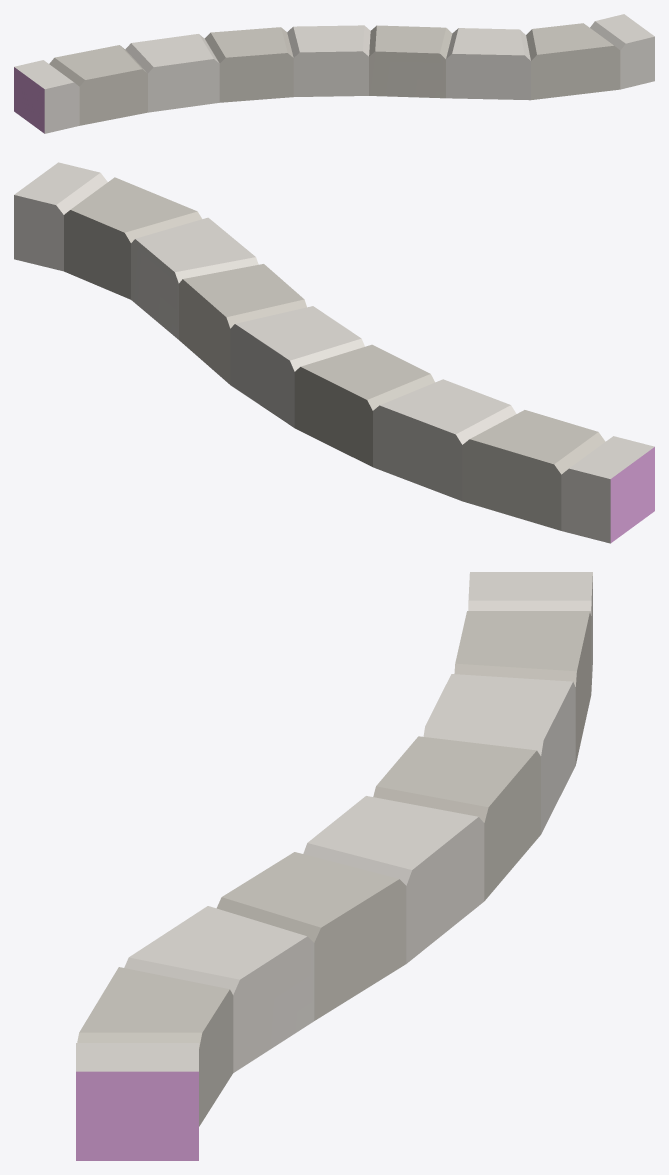
The model's file is Path_Edging_Stones_Esse_2x3.glb.
3 renders of one model, top to bottom at view 1: azimuth 30°, elevation 25°; view 2: azimuth 150°, elevation 25°; view 3: azimuth 270°, elevation 25°, orthographic. The views are drawn at different scales.
Parts seen in each view (by area): view 1: Path_Edging_Stones_Esse_2x3; view 2: Path_Edging_Stones_Esse_2x3; view 3: Path_Edging_Stones_Esse_2x3.
Boxes of the visible parts, x1,y1,x2,y2 form: Path_Edging_Stones_Esse_2x3: (14, 14, 654, 133); Path_Edging_Stones_Esse_2x3: (14, 162, 654, 543); Path_Edging_Stones_Esse_2x3: (76, 572, 592, 1160).
Size of the model in its own units: 300 by 25 by 131.
